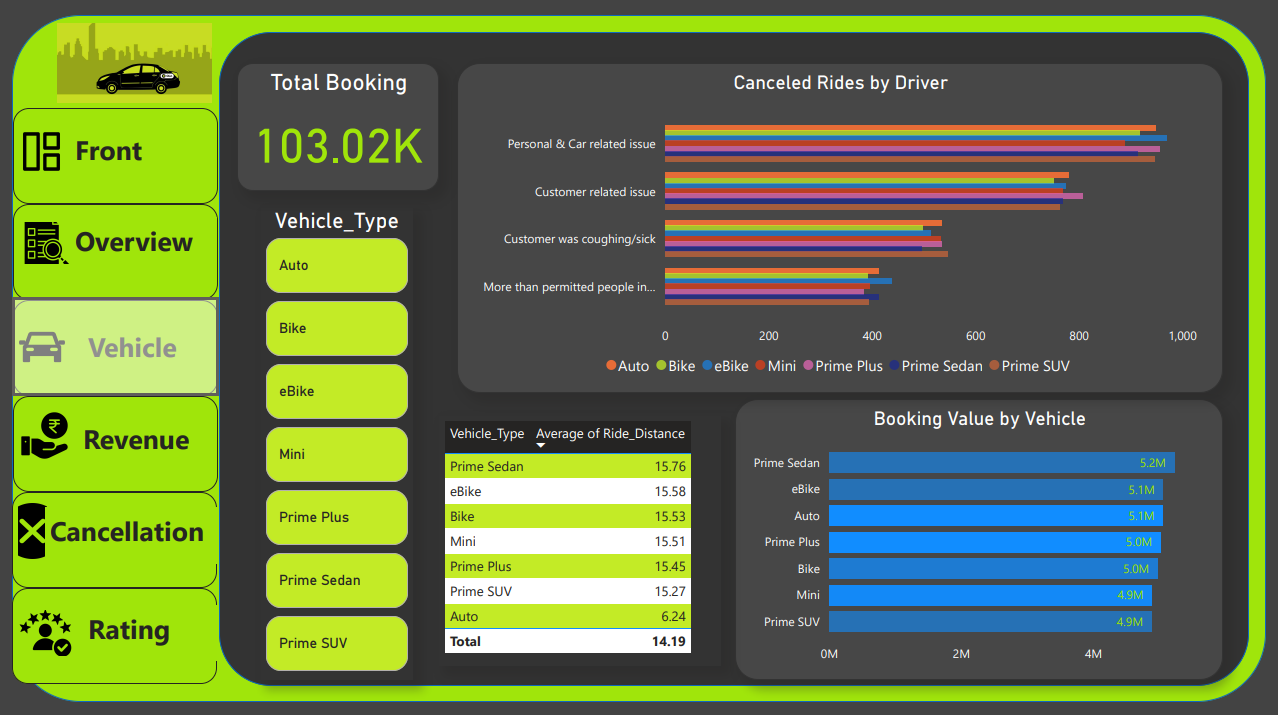

The page's visual inventory and layout, read from the dashboard file:
{"tool":"powerbi","page":{"name":"Vehicle Insights","canvas":[1280,720],"ordinal":3},"visuals":[{"type":"shape","box":[12.3,8.6,1254,701.8],"z":0},{"type":"group","id":"g1","title":"Group 3","box":[258,46,278.9,99],"z":0,"group":"g4"},{"type":"shape","box":[258,46,276.9,99],"z":0,"group":"g1"},{"type":"shape","box":[549,46,272.7,99],"z":0,"group":"g2"},{"type":"shape","box":[841.4,46,272.7,99],"z":0,"group":"g3"},{"type":"shape","box":[231.9,18.4,1025.8,682.2],"z":1000},{"type":"group","id":"g2","title":"Group 1","box":[549,46,273.4,99],"z":1000,"group":"g4"},{"type":"card","title":"Total Successful Rides","fields":{"Values":["Booking.Total Successful Rides"]},"box":[259.5,57.1,277.5,80.9],"z":1000,"group":"g1"},{"type":"card","title":"Total Bookings (PM Shift)","fields":{"Values":["Booking.after 12Am"]},"box":[841.1,57.1,273.3,82.3],"z":1000,"group":"g3"},{"type":"card","title":"Total Bookings (AM Shift)","fields":{"Values":["Booking.before 12"]},"box":[549.1,58.5,273.3,78.1],"z":1000,"group":"g2"},{"type":"group","id":"g3","title":"Group 2","box":[841.1,46,273.3,99],"z":2000,"group":"g4"},{"type":"lineStackedColumnComboChart","title":"Bookings and Average Customer Rating by Day","fields":{"Category":["Booking.Date.Variation.Date Hierarchy.Day"],"Y2":["Avg(Booking.Customer_Rating)"],"Y":["CountNonNull(Booking.Booking_ID)"]},"box":[573,429.5,662.6,254],"z":2000},{"type":"shape","box":[258.8,162.8,269.9,107.1],"z":3000},{"type":"card","title":"Average Vehicle Turnaround Time (minutes)","fields":{"Values":["Avg(Booking.V_TAT)"]},"box":[260.2,172.5,267.1,89],"z":4000},{"type":"clusteredBarChart","title":"Shift-wise Bookings by Vehicle Type","fields":{"Category":["Booking.Vehicle_Type"],"Y":["Booking.before 12","Booking.after 12Am"]},"box":[257.4,283.8,303.3,397.9],"z":5000},{"type":"donutChart","title":"Revenue Distribution by Vehicle Type","fields":{"Category":["Booking.Vehicle_Type"],"Y":["Sum(Booking.Booking_Value)"]},"box":[860.4,189.4,366.4,226.4],"z":6000},{"type":"pieChart","title":"Incomplete Rides","fields":{"Y":["CountNonNull(Booking.Booking_ID)"],"Category":["Booking.Incomplete_Ride"]},"box":[573.6,190.7,266.2,226.4],"z":7000},{"type":"actionButton","box":[1151.7,55.8,75.3,82.3],"z":8000},{"type":"group","id":"g4","title":"kpi card","box":[258,46,856.4,99],"z":9000},{"type":"shape","box":[11.6,8.3,220.5,703],"z":10000},{"type":"shape","box":[12.7,9.7,219.4,103.2],"z":11000},{"type":"image","box":[13.9,11,218.2,103.2],"z":12000},{"type":"image","box":[20.9,371.5,62.6,101.6],"z":13000},{"type":"textbox","box":[73,371.4,147.4,84.6],"z":14000},{"type":"actionButton","box":[15.3,371.5,210.1,101.6],"z":15000},{"type":"image","box":[20.9,257.4,58.4,103],"z":16000},{"type":"textbox","box":[72.3,285.2,148.9,55.7],"z":17000},{"type":"actionButton","box":[14.7,258.9,209.8,101.8],"z":18000},{"type":"textbox","box":[89.6,490.2,130.8,86.8],"z":19000},{"type":"image","box":[23.5,483,61.9,102.7],"z":20000},{"type":"actionButton","box":[15.3,484.2,210.1,101.6],"z":21000},{"type":"image","box":[25.3,608.3,57,101.6],"z":22000},{"type":"textbox","box":[57,634.4,171.1,50.1],"z":23000},{"type":"actionButton","box":[15.3,598.3,211.5,101.6],"z":24000},{"type":"image","box":[19.5,140.5,75.1,100.2],"z":25000},{"type":"textbox","box":[91.8,164.2,112.7,51.5],"z":26000},{"type":"actionButton","box":[14.7,141.1,209.8,100.6],"z":27000}]}

Visuals, with their boxes in screenshot pixels (x1, y1, x2, y2), scaled from the page's 1280x720 canvas onto the 1278x715 screenshot:
shape: select_region(12, 9, 1264, 705)
"Group 3" group: select_region(258, 46, 536, 144)
shape: select_region(258, 46, 534, 144)
shape: select_region(548, 46, 820, 144)
shape: select_region(840, 46, 1112, 144)
shape: select_region(232, 18, 1256, 696)
"Group 1" group: select_region(548, 46, 821, 144)
"Total Successful Rides" card: select_region(259, 57, 536, 137)
"Total Bookings (PM Shift)" card: select_region(840, 57, 1113, 138)
"Total Bookings (AM Shift)" card: select_region(548, 58, 821, 136)
"Group 2" group: select_region(840, 46, 1113, 144)
"Bookings and Average Customer Rating by Day" lineStackedColumnComboChart: select_region(572, 427, 1234, 679)
shape: select_region(258, 162, 528, 268)
"Average Vehicle Turnaround Time (minutes)" card: select_region(260, 171, 526, 260)
"Shift-wise Bookings by Vehicle Type" clusteredBarChart: select_region(257, 282, 560, 677)
"Revenue Distribution by Vehicle Type" donutChart: select_region(859, 188, 1225, 413)
"Incomplete Rides" pieChart: select_region(573, 189, 838, 414)
actionButton: select_region(1150, 55, 1225, 137)
"kpi card" group: select_region(258, 46, 1113, 144)
shape: select_region(12, 8, 232, 706)
shape: select_region(13, 10, 232, 112)
image: select_region(14, 11, 232, 113)
image: select_region(21, 369, 83, 470)
textbox: select_region(73, 369, 220, 453)
actionButton: select_region(15, 369, 225, 470)
image: select_region(21, 256, 79, 358)
textbox: select_region(72, 283, 221, 339)
actionButton: select_region(15, 257, 224, 358)
textbox: select_region(89, 487, 220, 573)
image: select_region(23, 480, 85, 582)
actionButton: select_region(15, 481, 225, 582)
image: select_region(25, 604, 82, 705)
textbox: select_region(57, 630, 228, 680)
actionButton: select_region(15, 594, 226, 695)
image: select_region(19, 140, 94, 239)
textbox: select_region(92, 163, 204, 214)
actionButton: select_region(15, 140, 224, 240)
